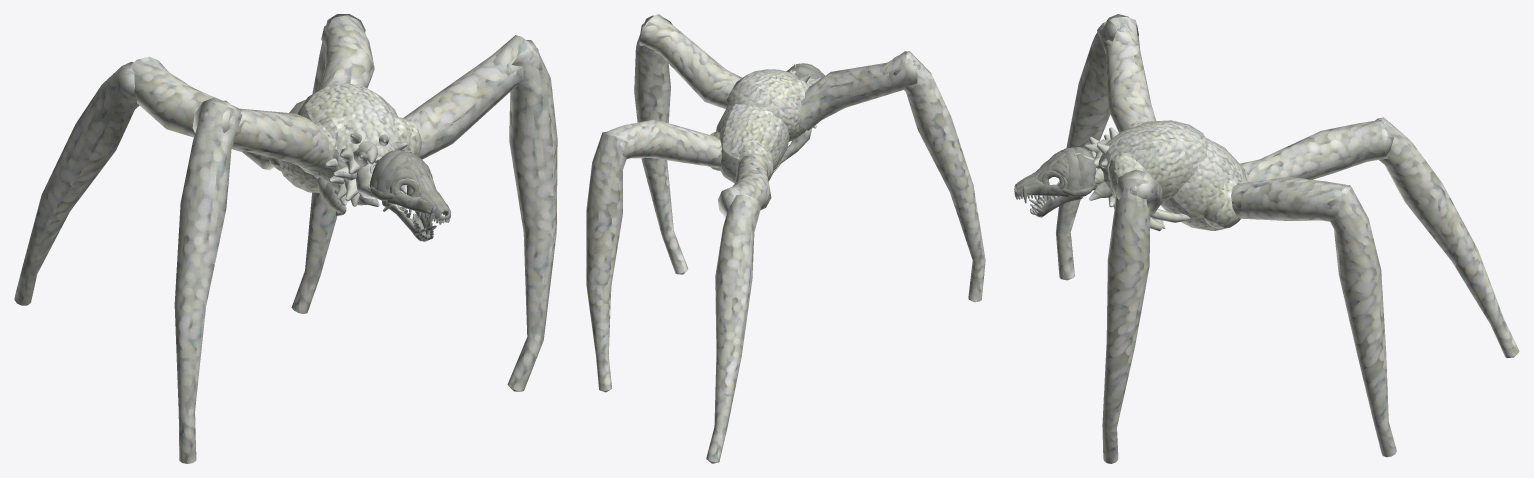
File: rec_room_-_backrooms_entity_62_aranea_membri.glb
The picture shows the model from 3 angles, left to right: view 1: azimuth 30°, elevation 25°; view 2: azimuth 150°, elevation 25°; view 3: azimuth 270°, elevation 25°; orthographic projection. The views are drawn at different scales.
Parts seen in each view (by area): view 1: Shape_CURVE_Tube_225b0a9ad82447cea41029f5457bc8d7_141, Shape_CURVE_Tube_318836c04c5f4e4088371d2290585a3f_135, Shape_CURVE_Tube_67f84f8d8caa4f16bc02896dd1f6b751_145, Shape_CURVE_Tube_f7a6bf3255c84d64b2f365a48e59db57_127, Shape_CURVE_Tube_36590ec8ce024c9398439a27f798bd5c_139, Shape_RR_Sphere_89343d9f57c04e4ebfc89f3940252cf5_93, Shape_CURVE_Tube_f53c2a8a08c54d4890204f43d5958733_147, Shape_CURVE_Tube_85410d5bd31b42e89fea9fa4c3d63a18_137, Shape_CURVE_Tube_44cc10bd292346aaa2a0d72e9c8d1f23_143, Shape_RR_Sphere_21905e9ff74d449da6130b3ced438c97_131, Shape_CURVE_Tube_93ce53d3244142bab04e3546451d00a7_15, Shape_CURVE_Tube_1a4d9e5b87ab48a1a56829efee61ebe5_3; view 2: Shape_CURVE_Tube_67f84f8d8caa4f16bc02896dd1f6b751_145, Shape_CURVE_Tube_44cc10bd292346aaa2a0d72e9c8d1f23_143, Shape_CURVE_Tube_225b0a9ad82447cea41029f5457bc8d7_141, Shape_CURVE_Tube_318836c04c5f4e4088371d2290585a3f_135, Shape_CURVE_Tube_36590ec8ce024c9398439a27f798bd5c_139, Shape_CURVE_Tube_f7a6bf3255c84d64b2f365a48e59db57_127, Shape_CURVE_Tube_85410d5bd31b42e89fea9fa4c3d63a18_137, Shape_RR_Sphere_21905e9ff74d449da6130b3ced438c97_131, Shape_RR_Sphere_89343d9f57c04e4ebfc89f3940252cf5_93, Shape_CURVE_Tube_f53c2a8a08c54d4890204f43d5958733_147; view 3: Shape_CURVE_Tube_318836c04c5f4e4088371d2290585a3f_135, Shape_CURVE_Tube_44cc10bd292346aaa2a0d72e9c8d1f23_143, Shape_CURVE_Tube_67f84f8d8caa4f16bc02896dd1f6b751_145, Shape_CURVE_Tube_f53c2a8a08c54d4890204f43d5958733_147, Shape_RR_Sphere_89343d9f57c04e4ebfc89f3940252cf5_93, Shape_CURVE_Tube_225b0a9ad82447cea41029f5457bc8d7_141, Shape_CURVE_Tube_85410d5bd31b42e89fea9fa4c3d63a18_137, Shape_CURVE_Tube_36590ec8ce024c9398439a27f798bd5c_139, Shape_RR_Sphere_21905e9ff74d449da6130b3ced438c97_131, Shape_RR_Sphere_fc06c96b101a427bab97cf0b382fc432_132, Shape_CURVE_Tube_f7a6bf3255c84d64b2f365a48e59db57_127, Shape_CURVE_Tube_f05a4dc319564e4c88a3d83d928e2543_63 (+1 smaller).
Boxes of the visible parts, x1,y1,x2,y2 form: Shape_CURVE_Tube_225b0a9ad82447cea41029f5457bc8d7_141: [174, 100, 242, 463]; Shape_CURVE_Tube_318836c04c5f4e4088371d2290585a3f_135: [507, 40, 557, 391]; Shape_CURVE_Tube_67f84f8d8caa4f16bc02896dd1f6b751_145: [14, 61, 139, 305]; Shape_CURVE_Tube_f7a6bf3255c84d64b2f365a48e59db57_127: [403, 35, 542, 159]; Shape_CURVE_Tube_36590ec8ce024c9398439a27f798bd5c_139: [192, 97, 329, 176]; Shape_RR_Sphere_89343d9f57c04e4ebfc89f3940252cf5_93: [297, 83, 404, 194]; Shape_CURVE_Tube_f53c2a8a08c54d4890204f43d5958733_147: [131, 56, 273, 170]; Shape_CURVE_Tube_85410d5bd31b42e89fea9fa4c3d63a18_137: [320, 15, 374, 89]; Shape_CURVE_Tube_44cc10bd292346aaa2a0d72e9c8d1f23_143: [291, 14, 365, 313]; Shape_RR_Sphere_21905e9ff74d449da6130b3ced438c97_131: [278, 99, 318, 192]; Shape_CURVE_Tube_93ce53d3244142bab04e3546451d00a7_15: [387, 192, 441, 219]; Shape_CURVE_Tube_1a4d9e5b87ab48a1a56829efee61ebe5_3: [375, 153, 408, 194]; Shape_CURVE_Tube_67f84f8d8caa4f16bc02896dd1f6b751_145: [706, 194, 761, 463]; Shape_CURVE_Tube_44cc10bd292346aaa2a0d72e9c8d1f23_143: [586, 132, 627, 392]; Shape_CURVE_Tube_225b0a9ad82447cea41029f5457bc8d7_141: [892, 51, 985, 302]; Shape_CURVE_Tube_318836c04c5f4e4088371d2290585a3f_135: [634, 15, 687, 274]; Shape_CURVE_Tube_36590ec8ce024c9398439a27f798bd5c_139: [799, 51, 920, 130]; Shape_CURVE_Tube_f7a6bf3255c84d64b2f365a48e59db57_127: [639, 14, 741, 109]; Shape_CURVE_Tube_85410d5bd31b42e89fea9fa4c3d63a18_137: [605, 119, 721, 168]; Shape_RR_Sphere_21905e9ff74d449da6130b3ced438c97_131: [716, 104, 789, 183]; Shape_RR_Sphere_89343d9f57c04e4ebfc89f3940252cf5_93: [726, 69, 807, 141]; Shape_CURVE_Tube_f53c2a8a08c54d4890204f43d5958733_147: [718, 153, 773, 217]; Shape_CURVE_Tube_318836c04c5f4e4088371d2290585a3f_135: [1102, 175, 1151, 463]; Shape_CURVE_Tube_44cc10bd292346aaa2a0d72e9c8d1f23_143: [1327, 185, 1396, 457]; Shape_CURVE_Tube_67f84f8d8caa4f16bc02896dd1f6b751_145: [1375, 117, 1519, 357]; Shape_CURVE_Tube_f53c2a8a08c54d4890204f43d5958733_147: [1240, 120, 1393, 182]; Shape_RR_Sphere_89343d9f57c04e4ebfc89f3940252cf5_93: [1097, 120, 1208, 205]; Shape_CURVE_Tube_225b0a9ad82447cea41029f5457bc8d7_141: [1056, 14, 1138, 280]; Shape_CURVE_Tube_85410d5bd31b42e89fea9fa4c3d63a18_137: [1231, 177, 1346, 221]; Shape_CURVE_Tube_36590ec8ce024c9398439a27f798bd5c_139: [1097, 16, 1156, 132]; Shape_RR_Sphere_21905e9ff74d449da6130b3ced438c97_131: [1161, 138, 1248, 230]; Shape_RR_Sphere_fc06c96b101a427bab97cf0b382fc432_132: [1204, 188, 1240, 228]; Shape_CURVE_Tube_f7a6bf3255c84d64b2f365a48e59db57_127: [1116, 169, 1162, 214]; Shape_CURVE_Tube_f05a4dc319564e4c88a3d83d928e2543_63: [1075, 149, 1096, 188].
Bounding box in the file's own units: 4.91 × 4.36 × 5.9.
3 materials, 3 textured.
